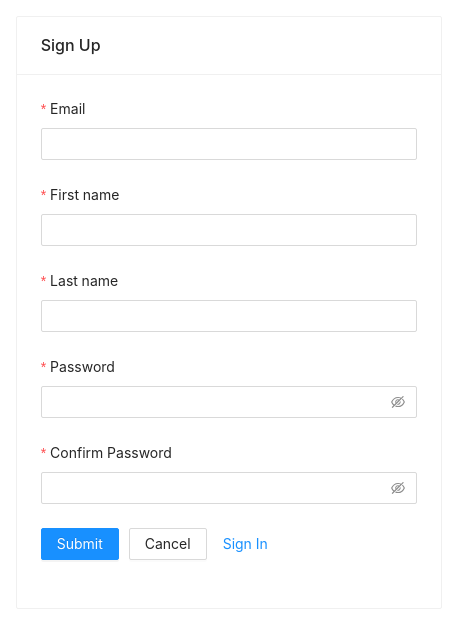
Test: Signup › Should check renders an error message when submitting the form without a data
The width and height of the screenshot is (459, 626).
What coordinates should you click on to do the following:
click the button "Submit"
I would click on:
 (80, 544)
Its box is top-left (41, 528), bottom-right (119, 560).
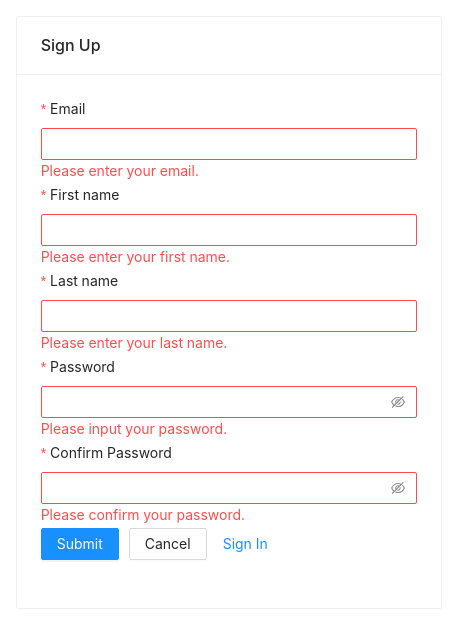
expect the text "Please enter your email." is shown: met, box top-left (41, 162), bottom-right (199, 179)
expect the text "Please input your password." is shown: met, box top-left (41, 420), bottom-right (227, 437)
expect the text "Please enter your first name." is shown: met, box top-left (41, 248), bottom-right (230, 265)
